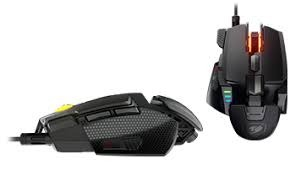mouse: (9, 95, 199, 161), (209, 10, 295, 134)
